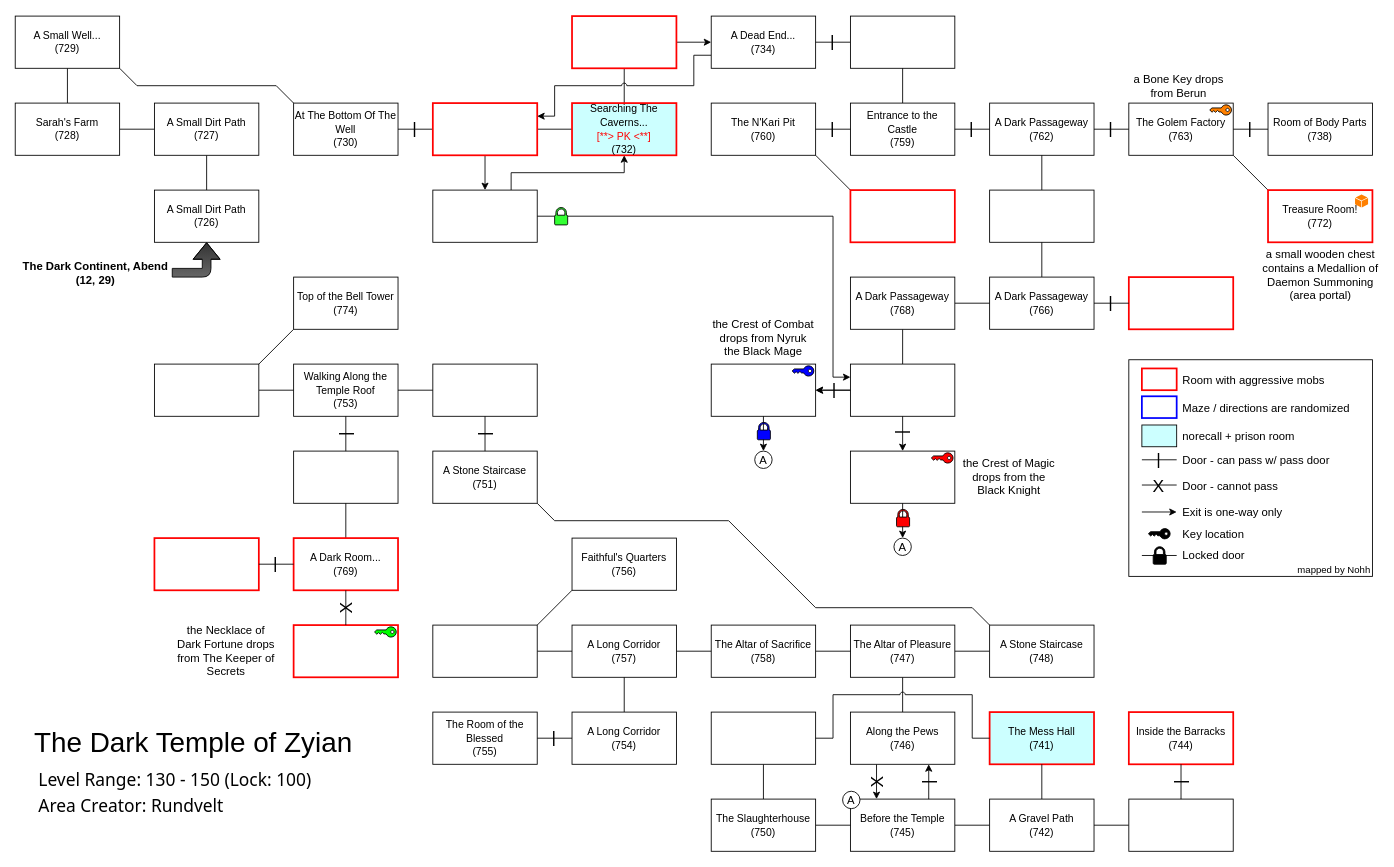
This 1394x867 diagram has some shape labels left out. The centre of each missing label's shape, as x and y in pixels:
A Battle Pit (740): the point at 902,476
A Dark Passageway (765): the point at 1041,215
A Dead End... (735): the point at 484,215
A Large Library (736): the point at 902,389
A Narrow Tunnel (737): the point at 902,41
A Small Room (764): the point at 345,476
A Smaller Library... (739): the point at 763,389
Approaching the Barracks (743): the point at 1180,824
Initiate's Quarters (773): the point at 484,650
On the Northeast Corner of the Temple Roof (752): the point at 484,389
Searching the Caverns... [**> PK <**] (731): the point at 485,129
Searching The Caverns... [**> PK <**] (733): the point at 624,42
The Bell Tower (775): the point at 206,389
The Kitchen (749): the point at 763,737
The Lair of the Keeper (770): the point at 345,651
The Lair of the N'Kari (761): the point at 902,216
Torture Chamber [**> PK <**] (767): the point at 1181,303
Zyian's Harem (771): the point at 206,564
